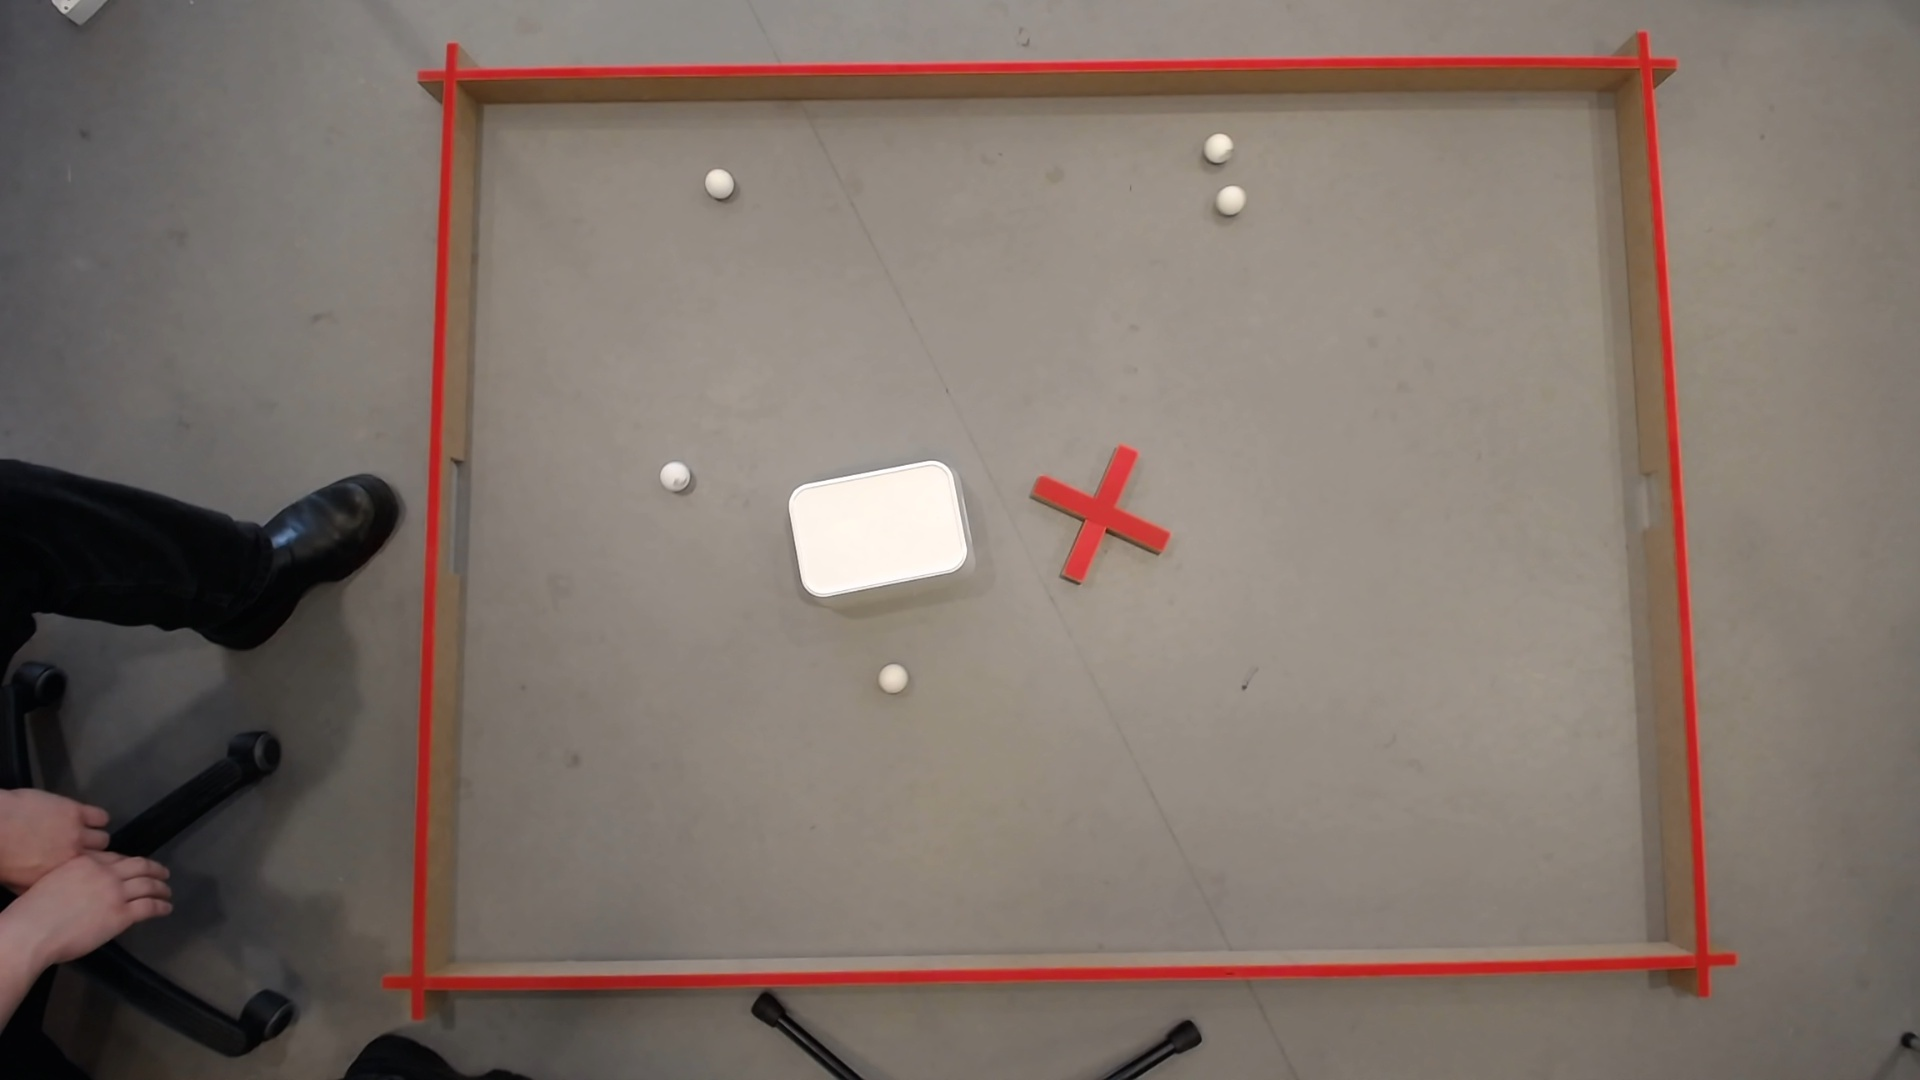balls: (782, 454, 972, 600), (1201, 127, 1234, 160), (702, 164, 735, 195), (657, 456, 690, 488), (1215, 181, 1246, 211)
car: (884, 666, 902, 684)
